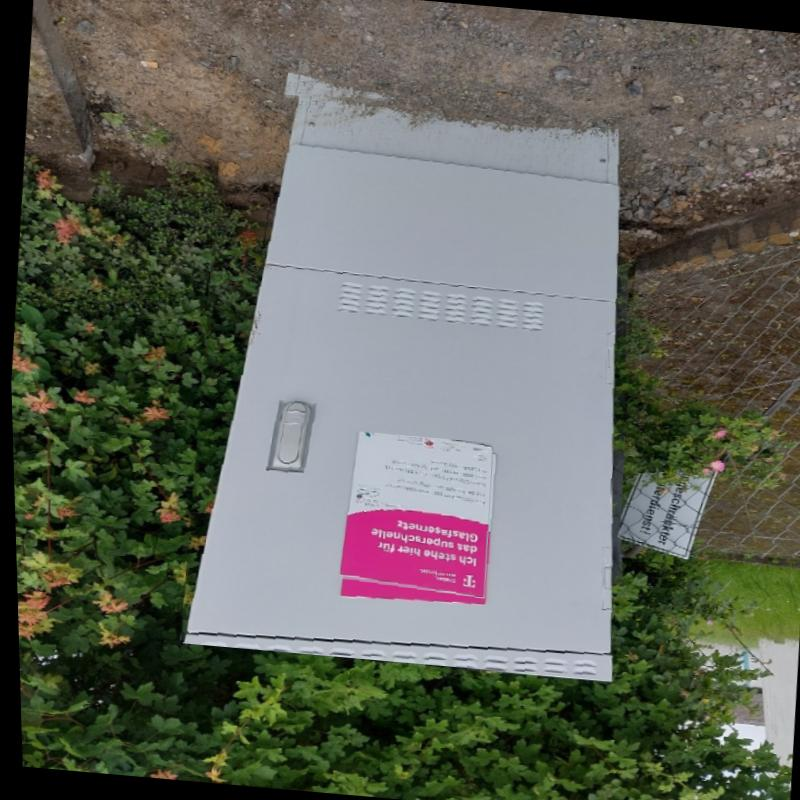NT-Gehause: (178, 91, 616, 680)
Steaker: (332, 430, 494, 598)
